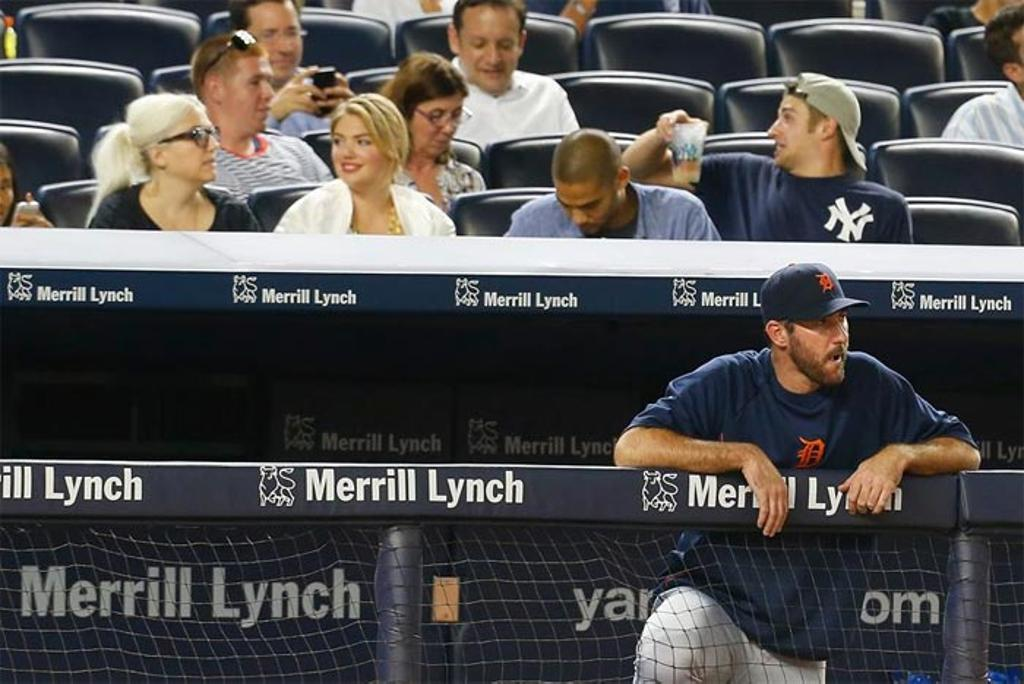face: (786, 295, 850, 384), (459, 4, 518, 92), (160, 102, 220, 183), (214, 56, 276, 134), (246, 4, 303, 82), (768, 92, 822, 169), (407, 86, 463, 160), (330, 113, 387, 184), (554, 174, 615, 236), (0, 169, 12, 224)
